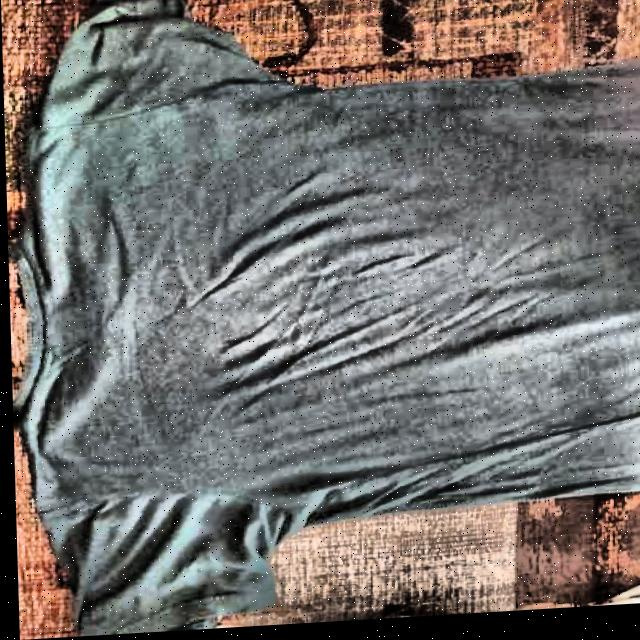clothes: (12, 0, 640, 639)
